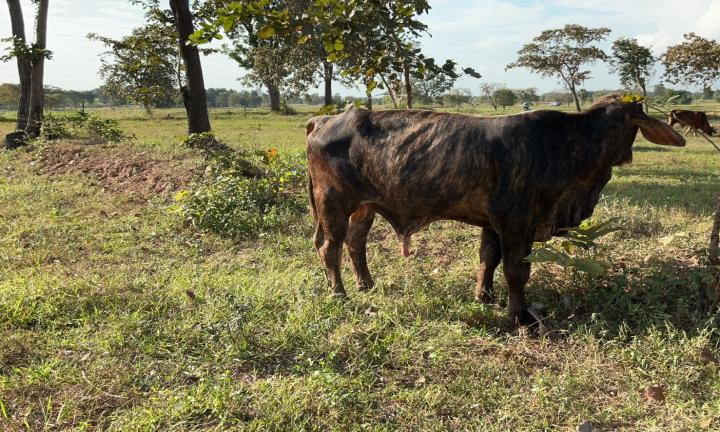Charolais: (306, 94, 684, 322)
